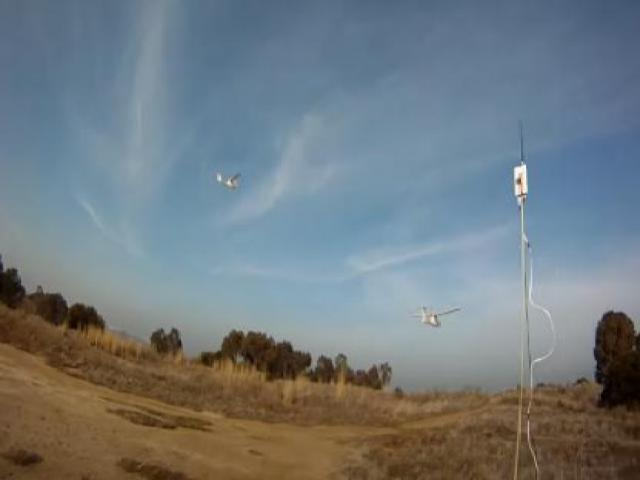uav: (404, 296, 465, 336), (213, 165, 244, 196)
